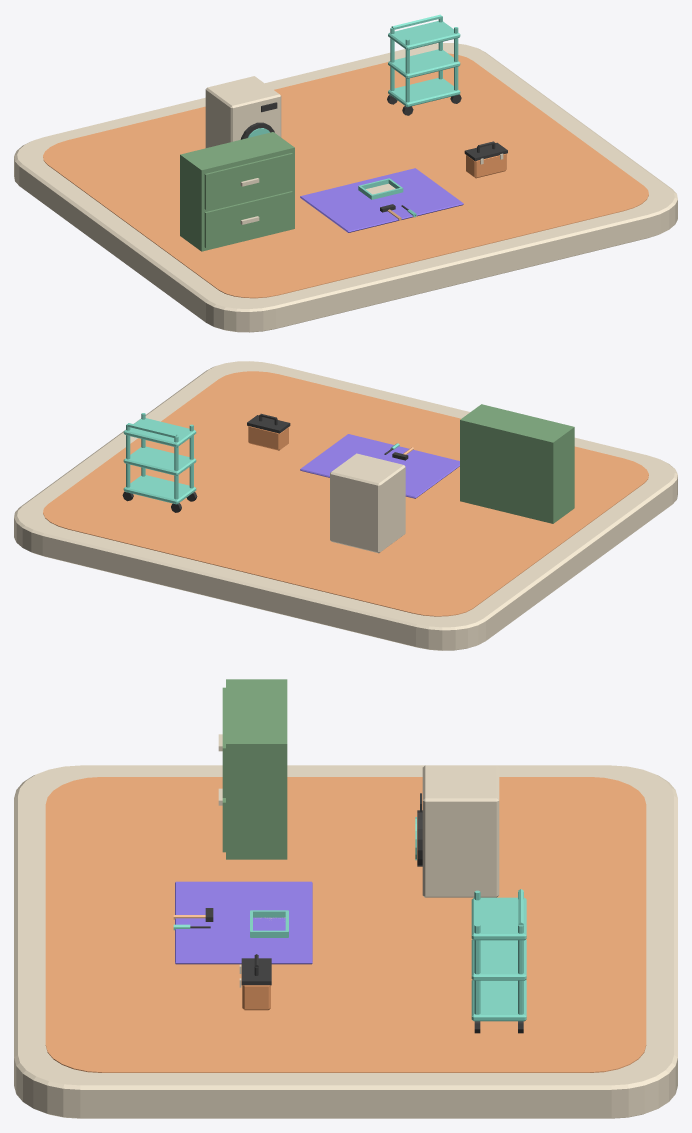
The picture shows the model from 3 angles, top to bottom: view 1: azimuth 30°, elevation 25°; view 2: azimuth 150°, elevation 25°; view 3: azimuth 270°, elevation 25°; orthographic projection. The views are drawn at different scales.
Parts seen in each view (by area): view 1: COM-02 Floor Surface, COM-01 Rounded Base Direct, Cabinet, Rug, Washing machine, Tray.002, Tray.001, Tray, Box; view 2: COM-02 Floor Surface, COM-01 Rounded Base Direct, Cabinet, Washing machine, Rug, Tray, Tray.001, Tray.002, Box, Lid; view 3: COM-02 Floor Surface, COM-01 Rounded Base Direct, Cabinet, Rug, Washing machine, Tray.002, Tray, Tray.001, Lid, Box.
Boxes of the visible parts, bbox=[...] form: COM-02 Floor Surface: bbox=[43, 53, 648, 298]; COM-01 Rounded Base Direct: bbox=[14, 43, 677, 332]; Cabinet: bbox=[180, 132, 294, 251]; Rug: bbox=[300, 168, 463, 232]; Washing machine: bbox=[205, 76, 281, 147]; Tray.002: bbox=[388, 21, 460, 50]; Tray.001: bbox=[388, 49, 460, 78]; Tray: bbox=[388, 78, 460, 107]; Box: bbox=[466, 153, 506, 178]; COM-02 Floor Surface: bbox=[43, 371, 648, 616]; COM-01 Rounded Base Direct: bbox=[14, 361, 677, 650]; Cabinet: bbox=[460, 404, 574, 523]; Washing machine: bbox=[330, 453, 405, 553]; Rug: bbox=[300, 434, 459, 498]; Tray: bbox=[123, 475, 196, 504]; Tray.001: bbox=[123, 446, 196, 475]; Tray.002: bbox=[123, 418, 196, 447]; Box: bbox=[248, 426, 288, 450]; Lid: bbox=[247, 415, 290, 433]; COM-02 Floor Surface: bbox=[45, 777, 646, 1072]; COM-01 Rounded Base Direct: bbox=[14, 765, 677, 1118]; Cabinet: bbox=[218, 679, 287, 859]; Rug: bbox=[175, 881, 312, 964]; Washing machine: bbox=[422, 765, 499, 897]; Tray.002: bbox=[471, 897, 526, 940]; Tray: bbox=[471, 980, 526, 1021]; Tray.001: bbox=[471, 939, 526, 980]; Lid: bbox=[241, 958, 271, 985]; Box: bbox=[242, 985, 270, 1010].
Size of the model in its own units: 6 by 1.3 by 5.2.
Materials: 1 (1 with a texture image).
